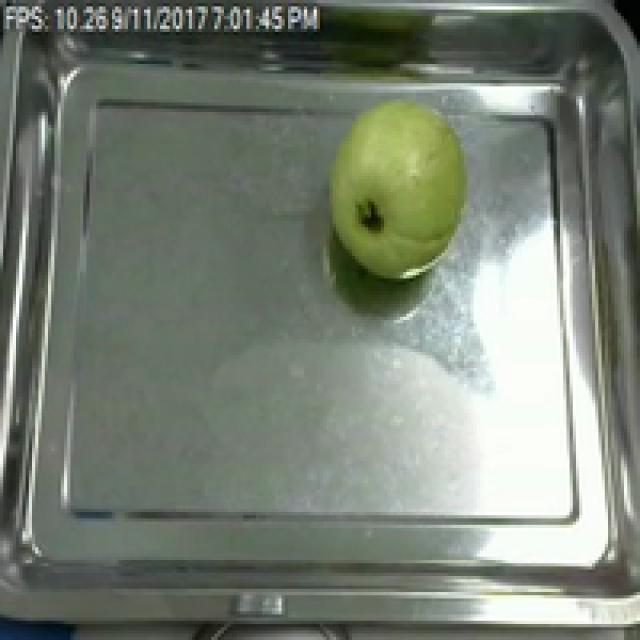Fruit: (314, 86, 480, 288)
